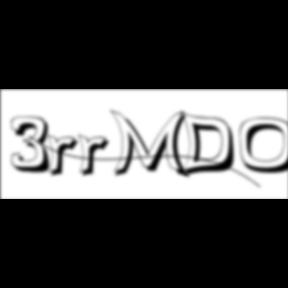3: (11, 116, 57, 176)
D: (178, 110, 242, 180)
M: (110, 108, 194, 181)
r: (47, 134, 85, 180), (78, 134, 116, 180)
